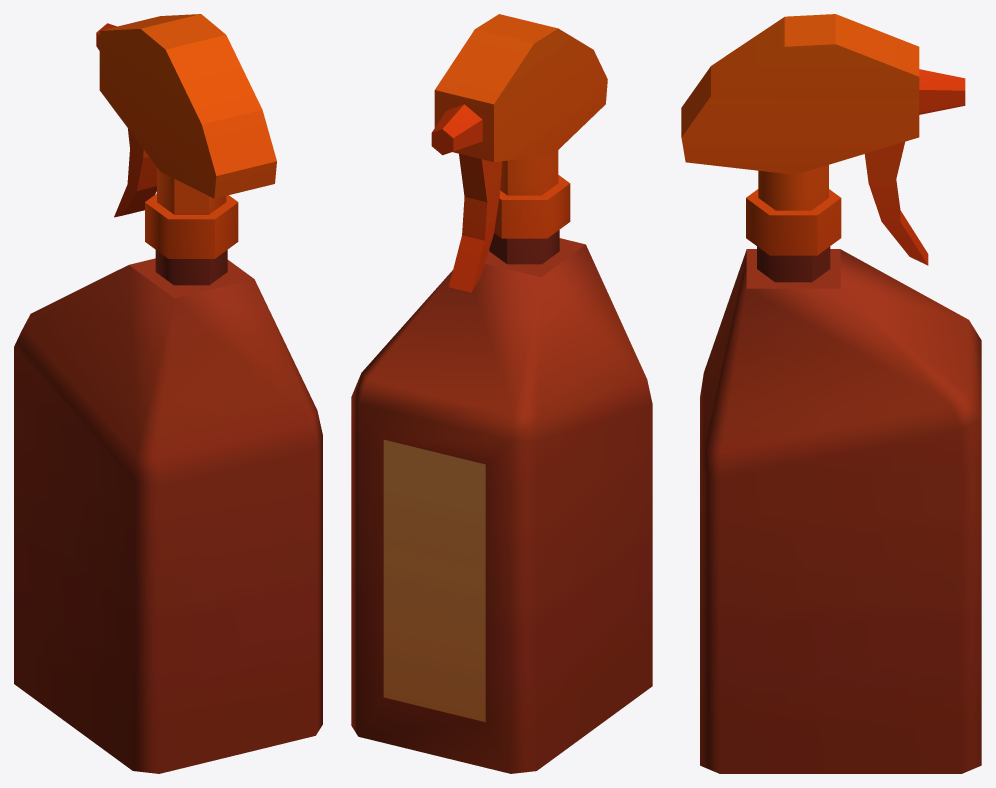
File: Pfb_JLAB_Bottle__2.fbx
The picture shows the model from 3 angles, left to right: view 1: azimuth 30°, elevation 25°; view 2: azimuth 150°, elevation 25°; view 3: azimuth 270°, elevation 25°; orthographic projection. The views are drawn at different scales.
Visible parts, largest first — view 1: Color; view 2: Color; view 3: Color.
Part boxes in pixels (x1,y1,x2,y2): Color: (14, 14, 322, 773); Color: (351, 14, 652, 773); Color: (681, 14, 981, 773).
Size of the model in its own units: 0.0981 by 0.3377 by 0.1316.
1 material, 1 textured.
